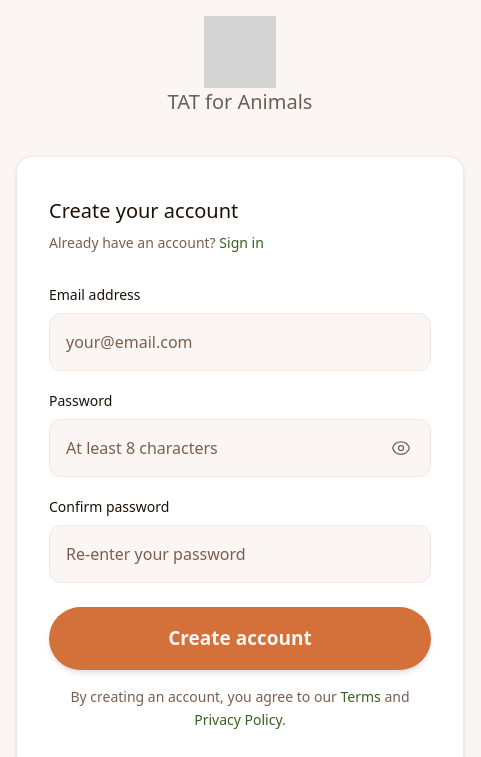
Test: SignupClient — Supabase errors › shows generic error for unexpected Supabase failures
Type "user@test.com" into the field labelled "Email address". click: (240, 342)
box: [49, 313, 431, 371]
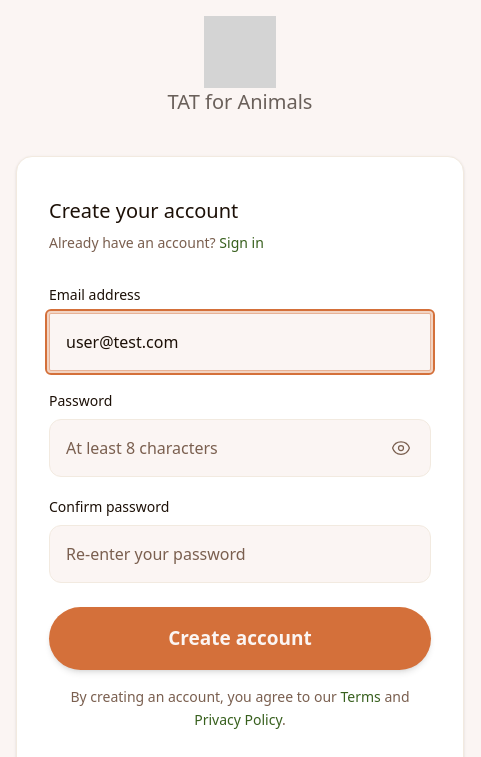
Type "password123" into the password field labelled "Password". click: (240, 448)
box: [49, 419, 431, 477]
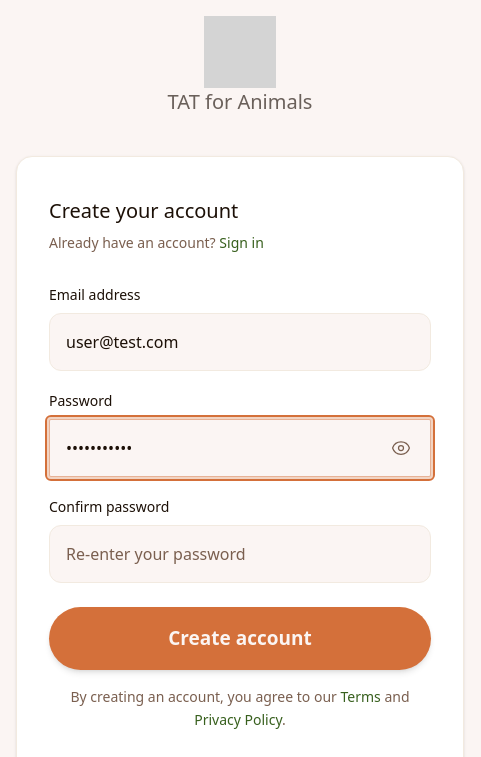
Type "password123" into the password field labelled "Confirm password". click: (240, 554)
box: [49, 525, 431, 583]
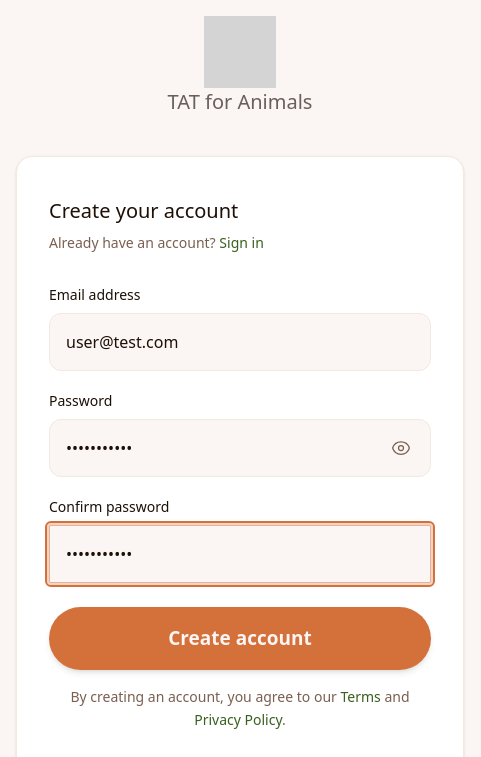
Click the button "Create account". click: (240, 639)
box: [49, 607, 431, 670]
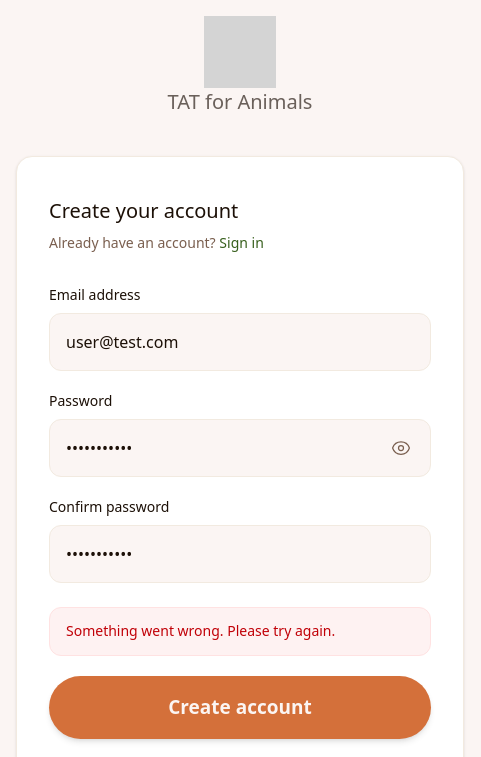
Now the text "Something went wrong. Please try again." is shown, box [66, 621, 335, 640]
